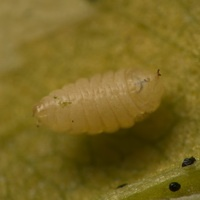insect: (33, 69, 163, 133), (182, 156, 195, 166)
